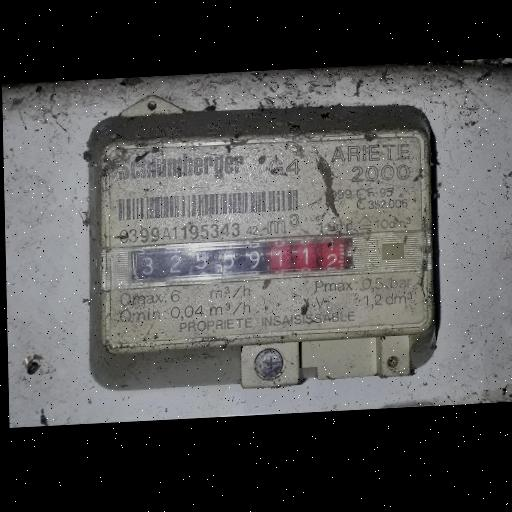1: (322, 238, 346, 272), (272, 241, 288, 274), (298, 240, 314, 273)
2: (166, 250, 186, 278)
3: (139, 252, 159, 280)
5: (219, 247, 237, 274), (193, 249, 211, 274)
9: (244, 246, 264, 273)
border_water_meter_number: (132, 235, 354, 284)
